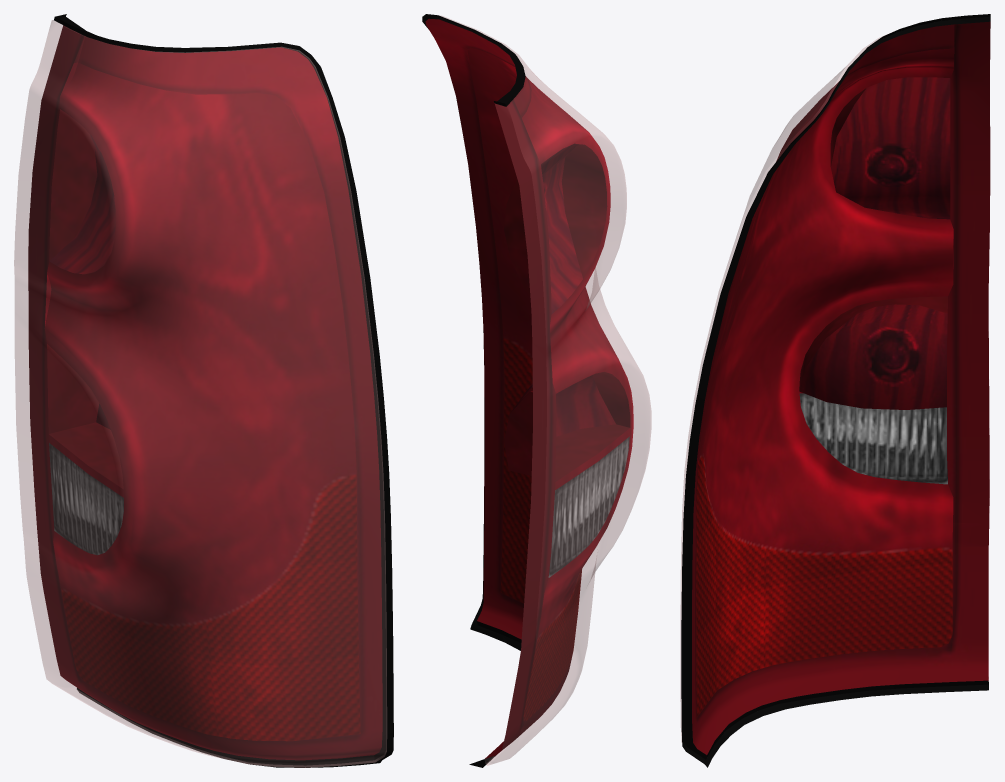
3 views of the same model, side by side, from view 1: azimuth 30°, elevation 25°; view 2: azimuth 150°, elevation 25°; view 3: azimuth 270°, elevation 25° (orthographic). The views are drawn at different scales.
Visible parts, largest first — view 1: U803_1A_541C_R_U803_1A_541C_R_1_DTaSI, U803_1A_541C_R_U803_1A_541C_R_2_N, U803_1A_541C_R_3_D_U803_1A_541C_R; view 2: U803_1A_541C_R_U803_1A_541C_R_2_N, U803_1A_541C_R_U803_1A_541C_R_1_DTaSI, U803_1A_541C_R_3_D_U803_1A_541C_R; view 3: U803_1A_541C_R_U803_1A_541C_R_2_N, U803_1A_541C_R_3_D_U803_1A_541C_R, U803_1A_541C_R_U803_1A_541C_R_1_DTaSI.
Part boxes in pixels (bbox=[...]): U803_1A_541C_R_U803_1A_541C_R_1_DTaSI: bbox=[14, 20, 386, 767]; U803_1A_541C_R_U803_1A_541C_R_2_N: bbox=[28, 25, 382, 760]; U803_1A_541C_R_3_D_U803_1A_541C_R: bbox=[54, 14, 393, 767]; U803_1A_541C_R_U803_1A_541C_R_2_N: bbox=[425, 18, 633, 758]; U803_1A_541C_R_U803_1A_541C_R_1_DTaSI: bbox=[439, 15, 651, 765]; U803_1A_541C_R_3_D_U803_1A_541C_R: bbox=[422, 14, 525, 767]; U803_1A_541C_R_U803_1A_541C_R_2_N: bbox=[692, 21, 990, 754]; U803_1A_541C_R_3_D_U803_1A_541C_R: bbox=[681, 14, 990, 767]; U803_1A_541C_R_U803_1A_541C_R_1_DTaSI: bbox=[680, 36, 882, 742].
Bounding box in the file's own units: 12.89 × 37.06 × 15.61.
